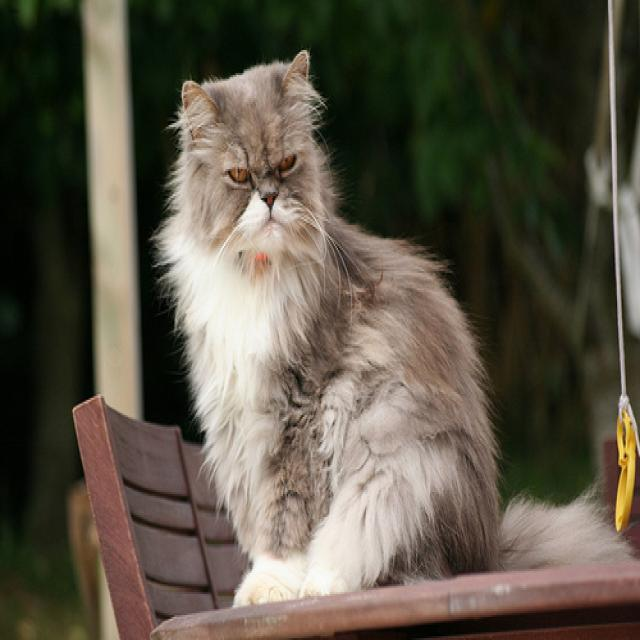Persian: (179, 48, 311, 246)
